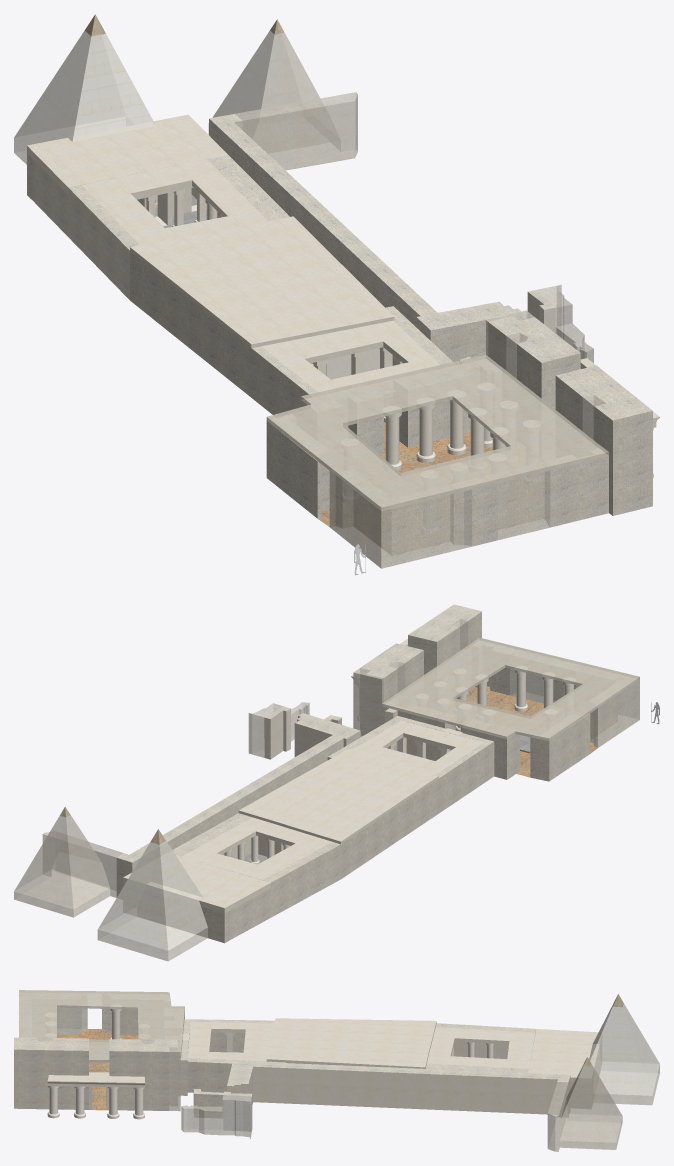
3 renders of one model, top to bottom at view 1: azimuth 30°, elevation 25°; view 2: azimuth 150°, elevation 25°; view 3: azimuth 270°, elevation 25°, orthographic. The views are drawn at different scales.
Parts seen in each view (by area): view 1: Mesh10 ROOF1 G_219_1 Model, Mesh54 Tomb_211_1 Model, Mesh30 G_219_1 Model, Mesh51 Roof_211_1 Tomb_211_1 Model, Mesh56 Model, Mesh37 UNKNOWN1 Tomb_211_1 Model, Mesh11 ROOF1 G_219_1 Model, Mesh39 UNKNOWN1 Tomb_211_1 Model, Mesh55 Model, Mesh58 Model, Mesh44 Round_Column_1_8 Tomb_211_1 Model, Mesh57 Model (+2 smaller); view 2: Mesh30 G_219_1 Model, Mesh10 ROOF1 G_219_1 Model, Mesh54 Tomb_211_1 Model, Mesh56 Model, Mesh51 Roof_211_1 Tomb_211_1 Model, Mesh11 ROOF1 G_219_1 Model, Mesh37 UNKNOWN1 Tomb_211_1 Model, Mesh55 Model, Mesh38 UNKNOWN1 Tomb_211_1 Model, Mesh39 UNKNOWN1 Tomb_211_1 Model, Mesh58 Model, Mesh57 Model; view 3: Mesh56 Model, Mesh10 ROOF1 G_219_1 Model, Mesh54 Tomb_211_1 Model, Mesh30 G_219_1 Model, Mesh51 Roof_211_1 Tomb_211_1 Model, Mesh11 ROOF1 G_219_1 Model, Mesh55 Model, Mesh37 UNKNOWN1 Tomb_211_1 Model, Mesh38 UNKNOWN1 Tomb_211_1 Model, Mesh58 Model, Mesh49 Round_Column_1_13 Tomb_211_1 Model, Mesh53 Round_Column_1_16 Tomb_211_1 Model (+4 smaller).
Part boxes in pixels (x1,y1,x2,y2): Mesh10 ROOF1 G_219_1 Model: (82, 159, 439, 392); Mesh54 Tomb_211_1 Model: (266, 316, 659, 550); Mesh30 G_219_1 Model: (14, 14, 452, 438); Mesh51 Roof_211_1 Tomb_211_1 Model: (266, 355, 608, 511); Mesh56 Model: (208, 19, 520, 361); Mesh37 UNKNOWN1 Tomb_211_1 Model: (329, 469, 472, 568); Mesh11 ROOF1 G_219_1 Model: (27, 114, 228, 194); Mesh39 UNKNOWN1 Tomb_211_1 Model: (488, 469, 550, 540); Mesh55 Model: (527, 285, 593, 363); Mesh58 Model: (68, 185, 139, 250); Mesh44 Round_Column_1_8 Tomb_211_1 Model: (416, 398, 435, 462); Mesh57 Model: (207, 155, 289, 220); Mesh30 G_219_1 Model: (97, 716, 494, 961); Mesh10 ROOF1 G_219_1 Model: (182, 721, 483, 880); Mesh54 Tomb_211_1 Model: (351, 604, 613, 781); Mesh56 Model: (14, 713, 360, 917); Mesh51 Roof_211_1 Tomb_211_1 Model: (382, 637, 639, 740); Mesh11 ROOF1 G_219_1 Model: (123, 853, 270, 913); Mesh37 UNKNOWN1 Tomb_211_1 Model: (576, 664, 639, 747); Mesh55 Model: (248, 702, 309, 759); Mesh38 UNKNOWN1 Tomb_211_1 Model: (353, 668, 387, 736); Mesh39 UNKNOWN1 Tomb_211_1 Model: (510, 651, 556, 703); Mesh58 Model: (263, 842, 340, 882); Mesh57 Model: (169, 813, 251, 856); Mesh56 Model: (193, 1057, 622, 1151); Mesh10 ROOF1 G_219_1 Model: (188, 1018, 535, 1068); Mesh54 Tomb_211_1 Model: (14, 994, 187, 1110); Mesh30 G_219_1 Model: (181, 994, 659, 1108); Mesh51 Roof_211_1 Tomb_211_1 Model: (19, 990, 184, 1062); Mesh11 ROOF1 G_219_1 Model: (528, 1029, 601, 1082); Mesh55 Model: (181, 1091, 252, 1138); Mesh37 UNKNOWN1 Tomb_211_1 Model: (19, 992, 87, 1034); Mesh38 UNKNOWN1 Tomb_211_1 Model: (169, 1039, 180, 1111); Mesh58 Model: (436, 1023, 536, 1032); Mesh49 Round_Column_1_13 Tomb_211_1 Model: (110, 1004, 121, 1039); Mesh53 Round_Column_1_16 Tomb_211_1 Model: (74, 1086, 85, 1118).
Size of the model in its own units: 24 by 7.95 by 49.49.
